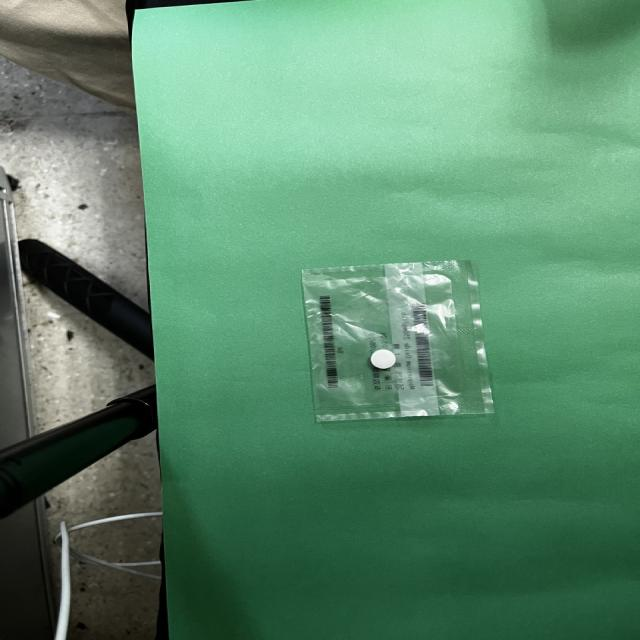Other Objects: (303, 260, 493, 422)
